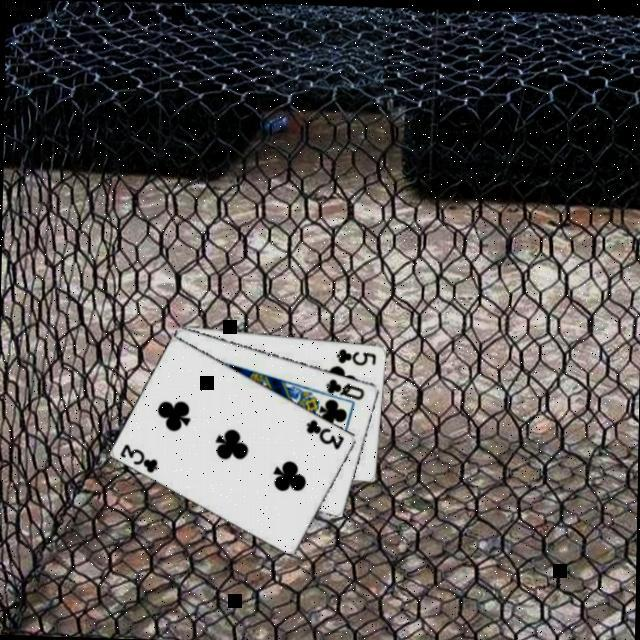3C: (114, 438, 160, 474), (302, 414, 346, 450)
5C: (332, 342, 378, 366)
QC: (322, 372, 366, 400)
